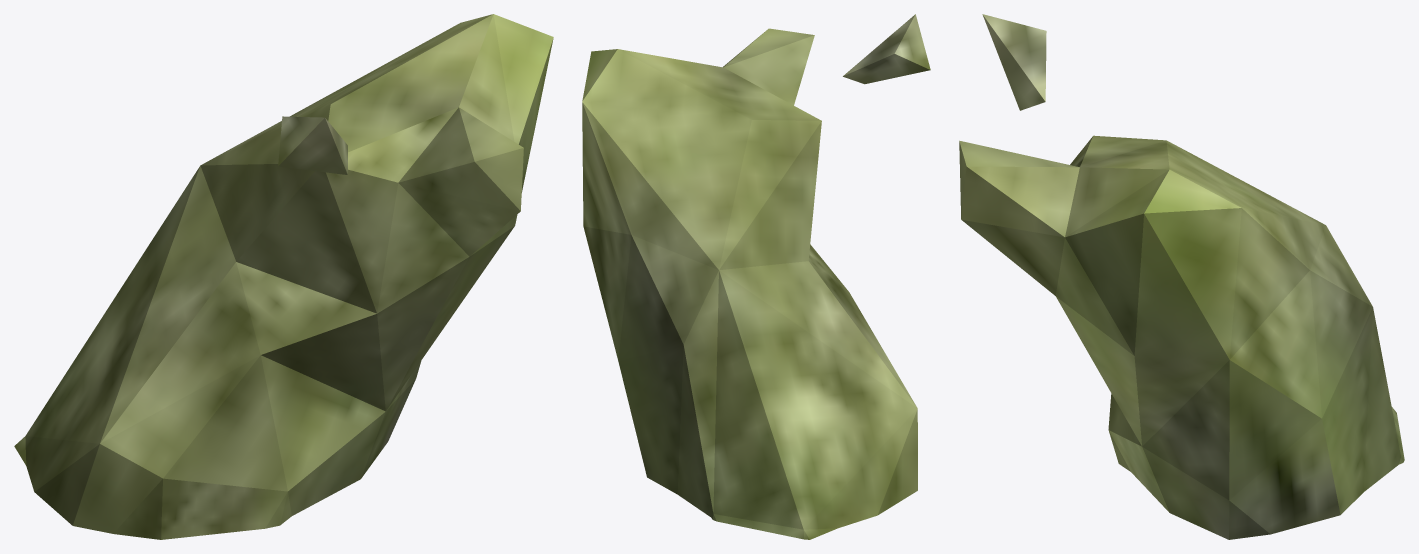
3 views of the same model, side by side, from view 1: azimuth 30°, elevation 25°; view 2: azimuth 150°, elevation 25°; view 3: azimuth 270°, elevation 25° (orthographic). The views are drawn at different scales.
Bounding box in the file's own units: 0.41 × 0.4143 × 0.3827.
1 material, 1 textured.
